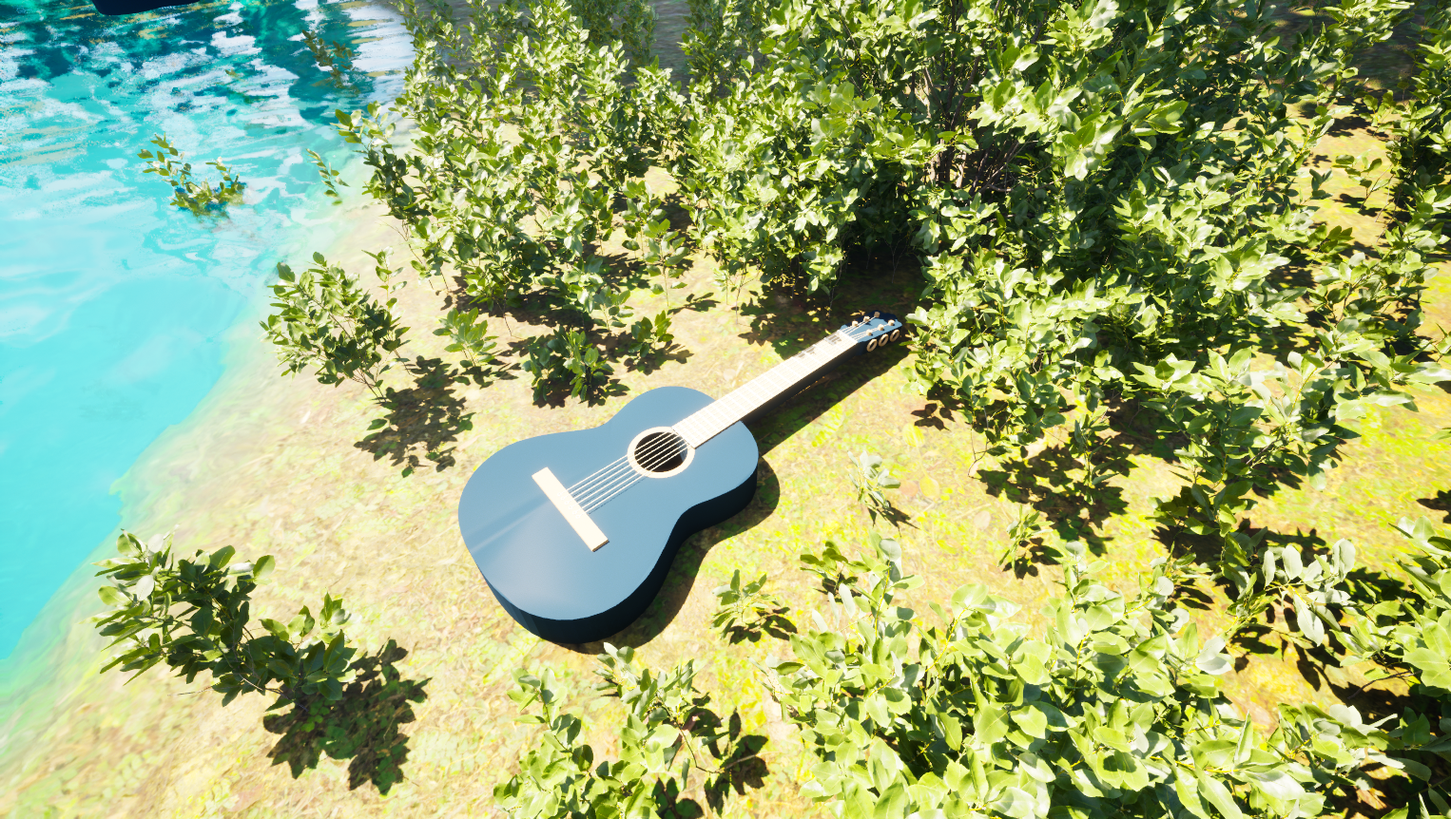Guitar: (426, 268, 969, 684)
